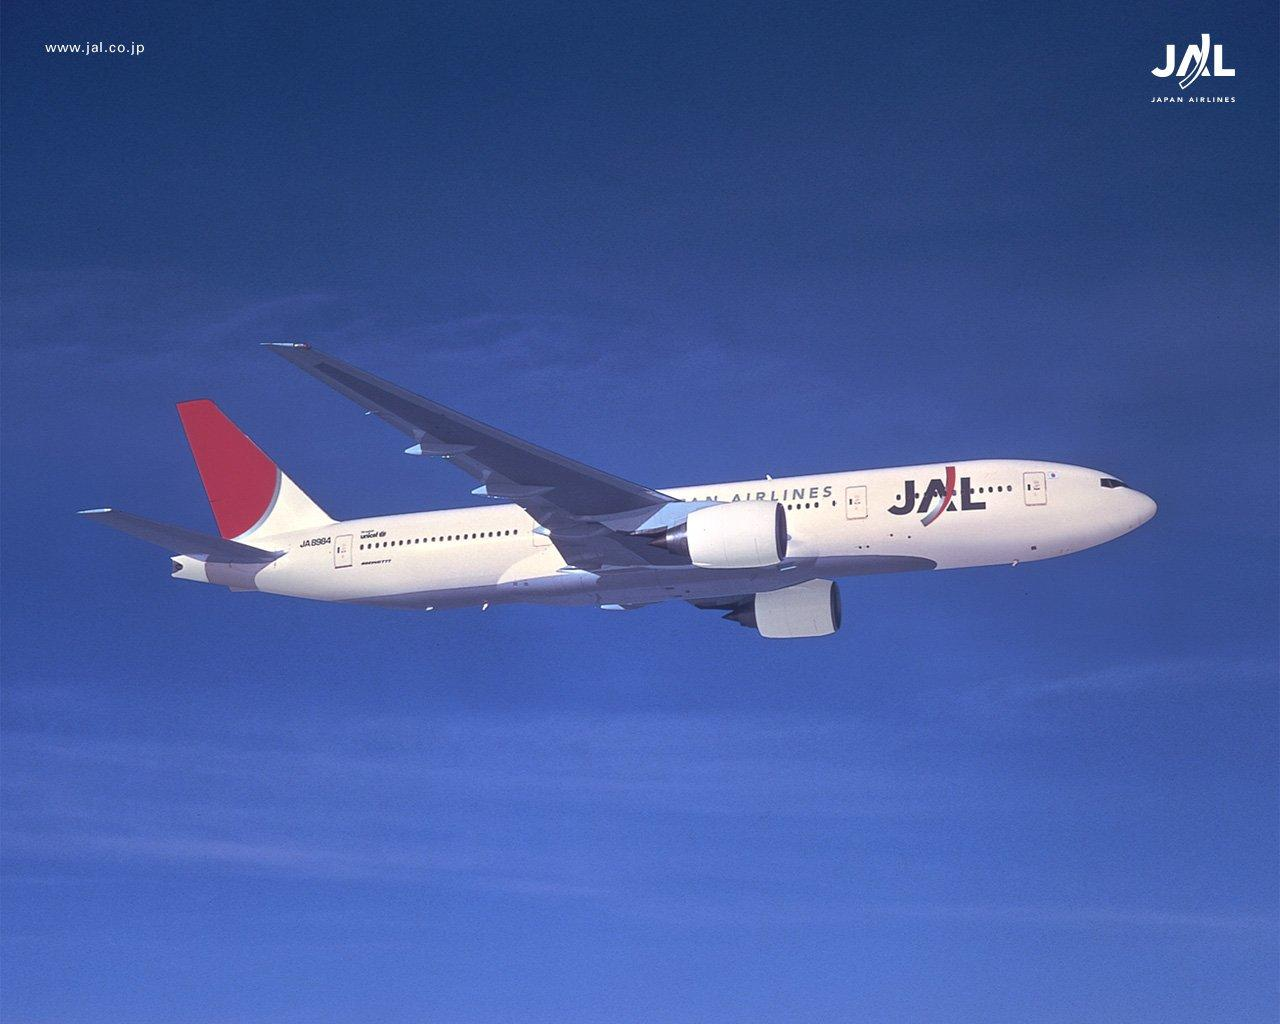airplane: (63, 339, 1166, 623)
